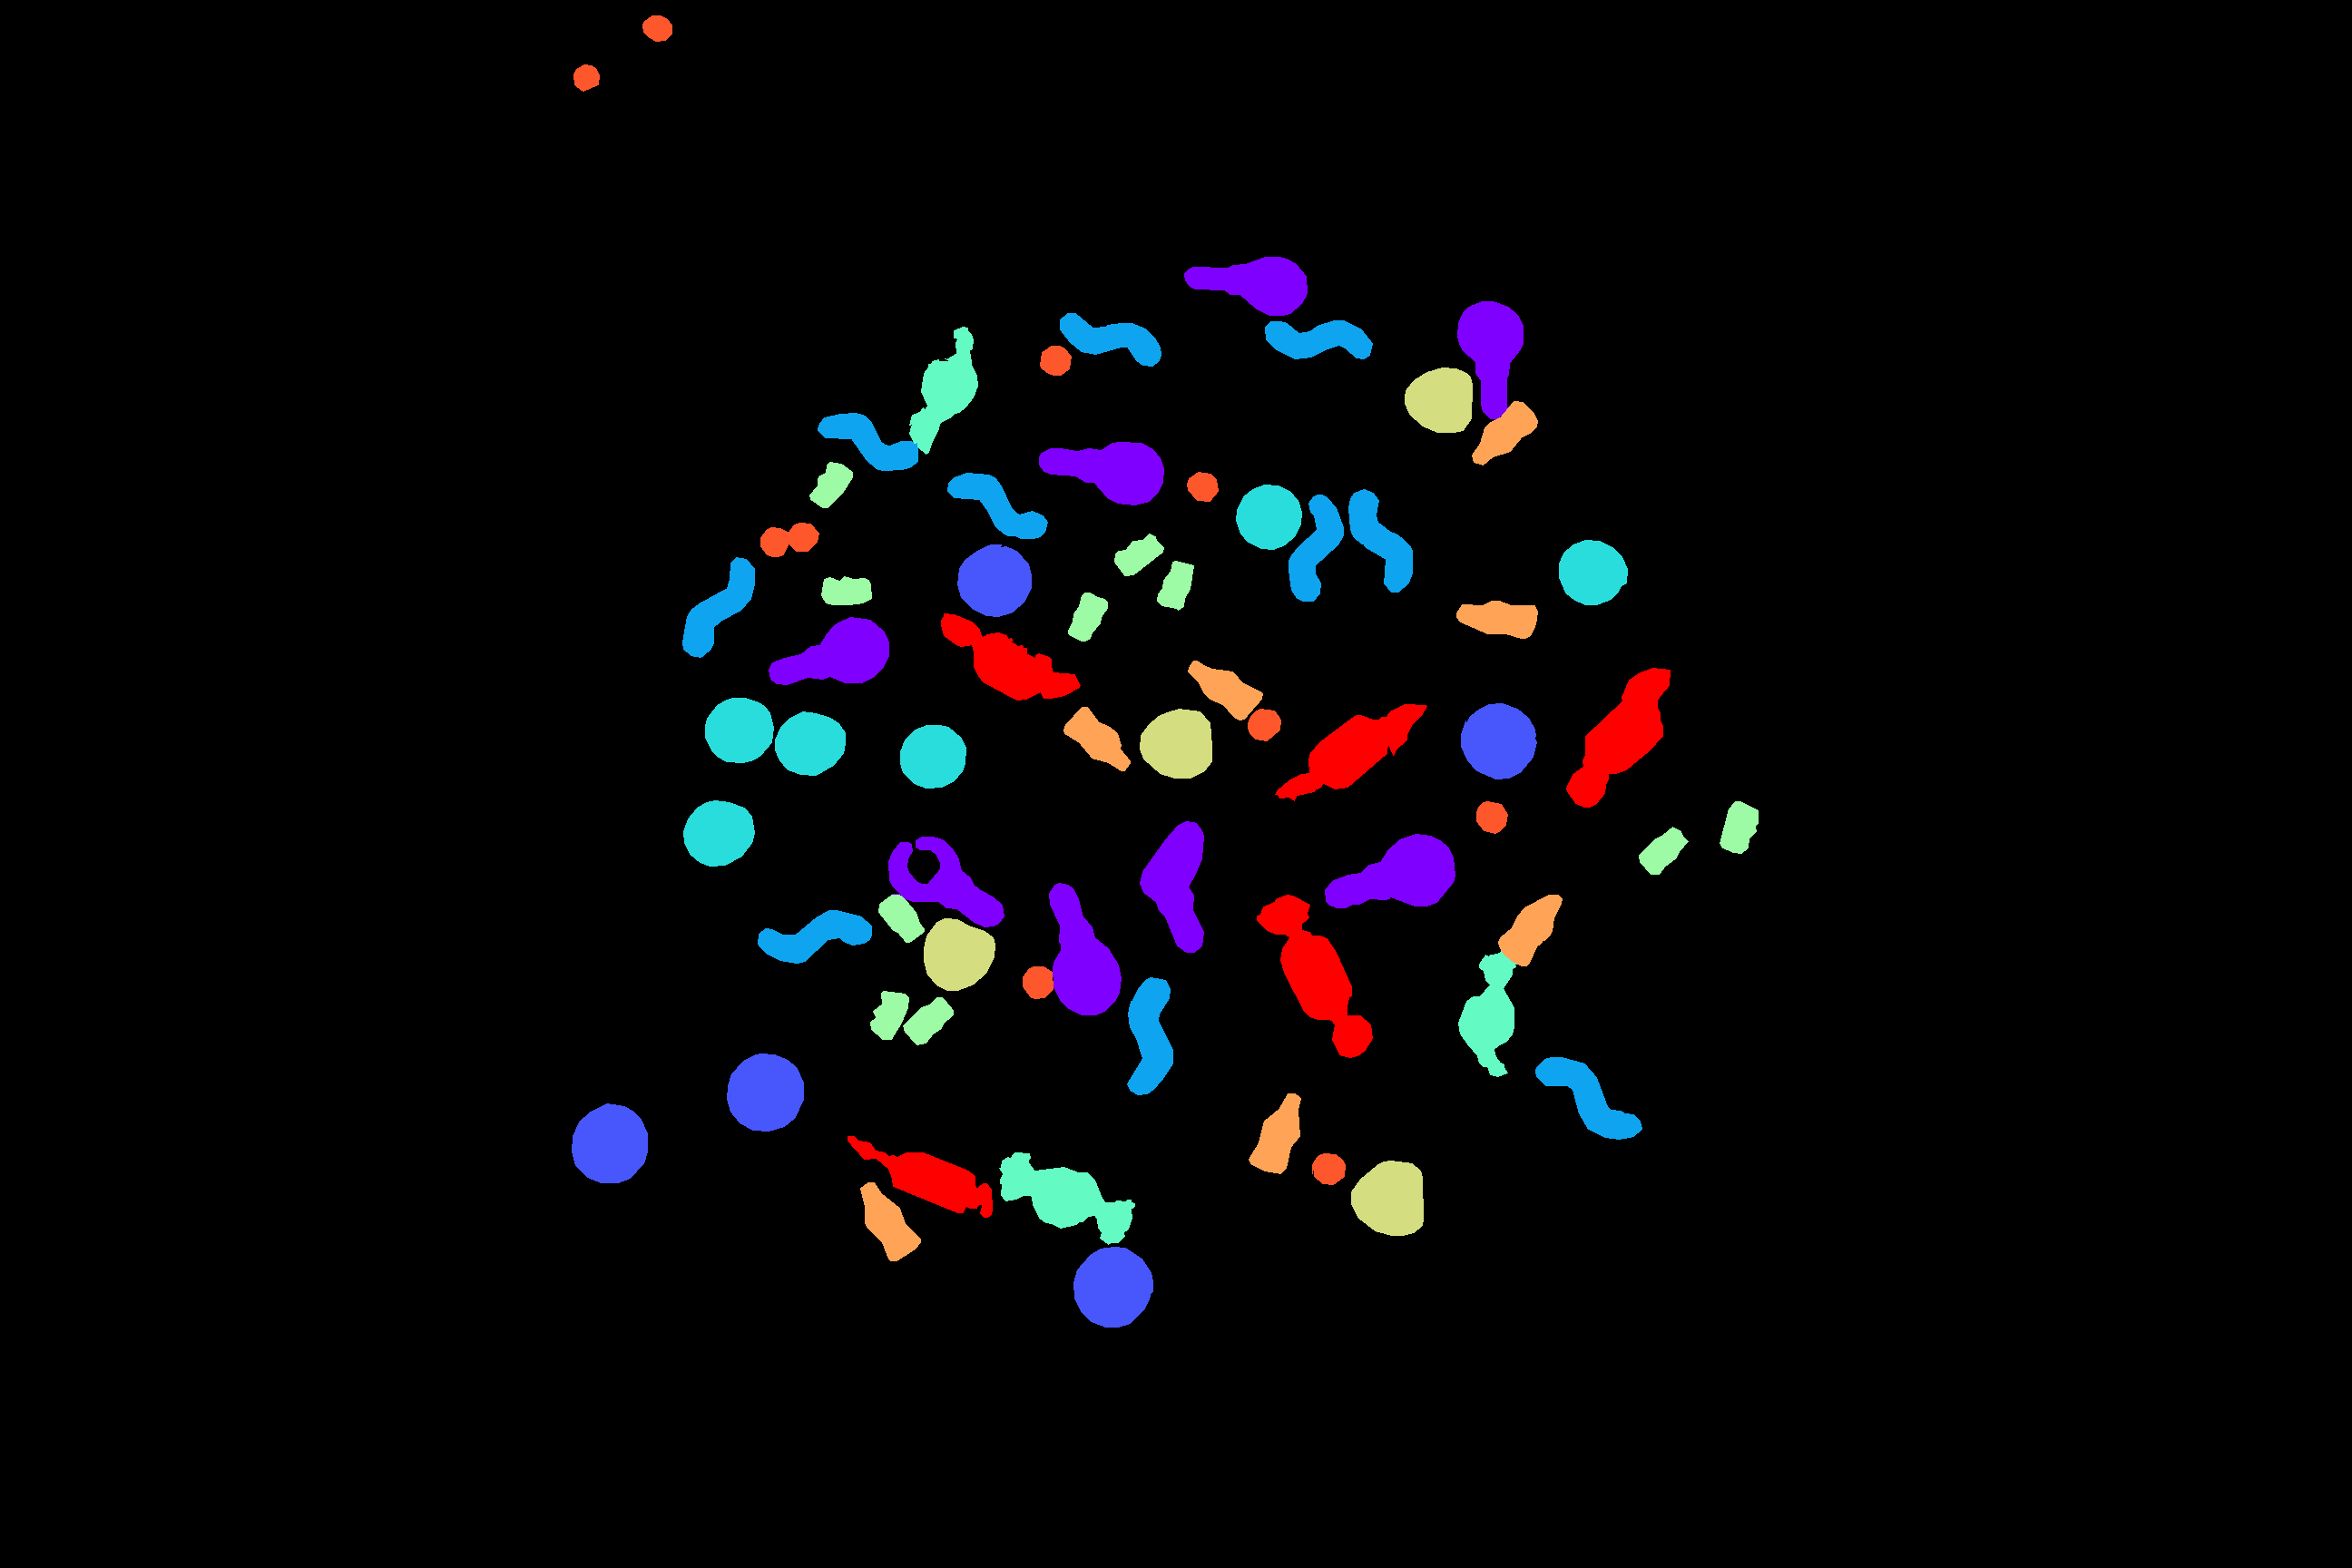apricot_jellies: (1351, 1160, 1423, 1236), (924, 919, 994, 991), (1139, 709, 1211, 777), (1405, 367, 1472, 432)
bear: (1638, 826, 1687, 873), (903, 997, 952, 1045), (878, 894, 924, 942), (1115, 534, 1164, 576), (810, 462, 852, 508), (1068, 593, 1108, 640), (870, 991, 908, 1040), (1720, 802, 1757, 852), (1157, 560, 1193, 609), (821, 576, 871, 604)
coin_candy: (1073, 1246, 1153, 1326), (726, 1053, 803, 1130), (572, 1104, 647, 1183), (1461, 704, 1536, 779), (957, 544, 1031, 616)
cola bottle candies: (861, 1183, 920, 1260), (1498, 894, 1561, 966), (1188, 660, 1262, 719), (1064, 707, 1130, 770), (1248, 1094, 1300, 1172), (1472, 401, 1536, 464), (1456, 600, 1536, 639)
dummies: (889, 837, 1003, 926), (1325, 835, 1454, 908), (1048, 884, 1120, 1015), (1139, 821, 1204, 952), (768, 618, 889, 684), (1040, 443, 1164, 504), (1458, 301, 1522, 418), (1185, 257, 1307, 315)
riesen: (1256, 894, 1372, 1057), (1276, 704, 1426, 800), (1566, 669, 1669, 807), (942, 614, 1080, 700), (847, 1136, 992, 1216)
skittles: (1248, 709, 1281, 740), (1313, 1153, 1344, 1185), (1022, 966, 1052, 997), (1477, 802, 1507, 833), (1040, 347, 1071, 374), (1187, 473, 1218, 500), (789, 523, 819, 551), (761, 527, 789, 557), (642, 16, 672, 40), (574, 65, 598, 91)
sourworms: (1535, 1057, 1641, 1139), (682, 557, 754, 656), (1349, 488, 1412, 591), (947, 473, 1046, 537), (758, 910, 871, 963), (817, 413, 917, 471), (1288, 495, 1342, 600), (1127, 976, 1172, 1094), (1060, 313, 1160, 366), (1265, 320, 1372, 359)
tofifee: (682, 800, 754, 866), (705, 698, 773, 763), (775, 712, 845, 775), (1236, 485, 1302, 549), (1559, 541, 1628, 604), (900, 724, 966, 788)
vollmilch_brocken: (999, 1153, 1134, 1244), (910, 327, 976, 453), (1458, 948, 1515, 1076)
